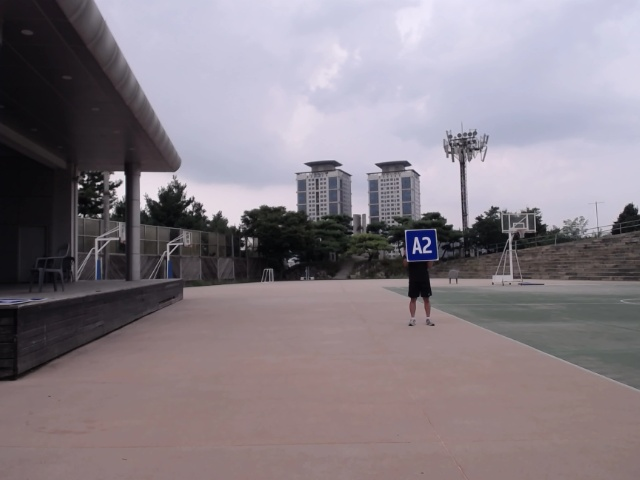delivery_a2: (406, 229, 438, 261)
